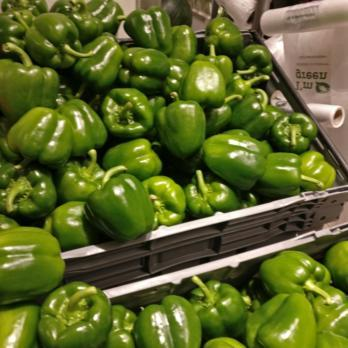Capsicum: (1, 1, 169, 243), (0, 289, 348, 348), (162, 23, 262, 203), (258, 99, 315, 200), (0, 222, 69, 298), (256, 249, 342, 297)
